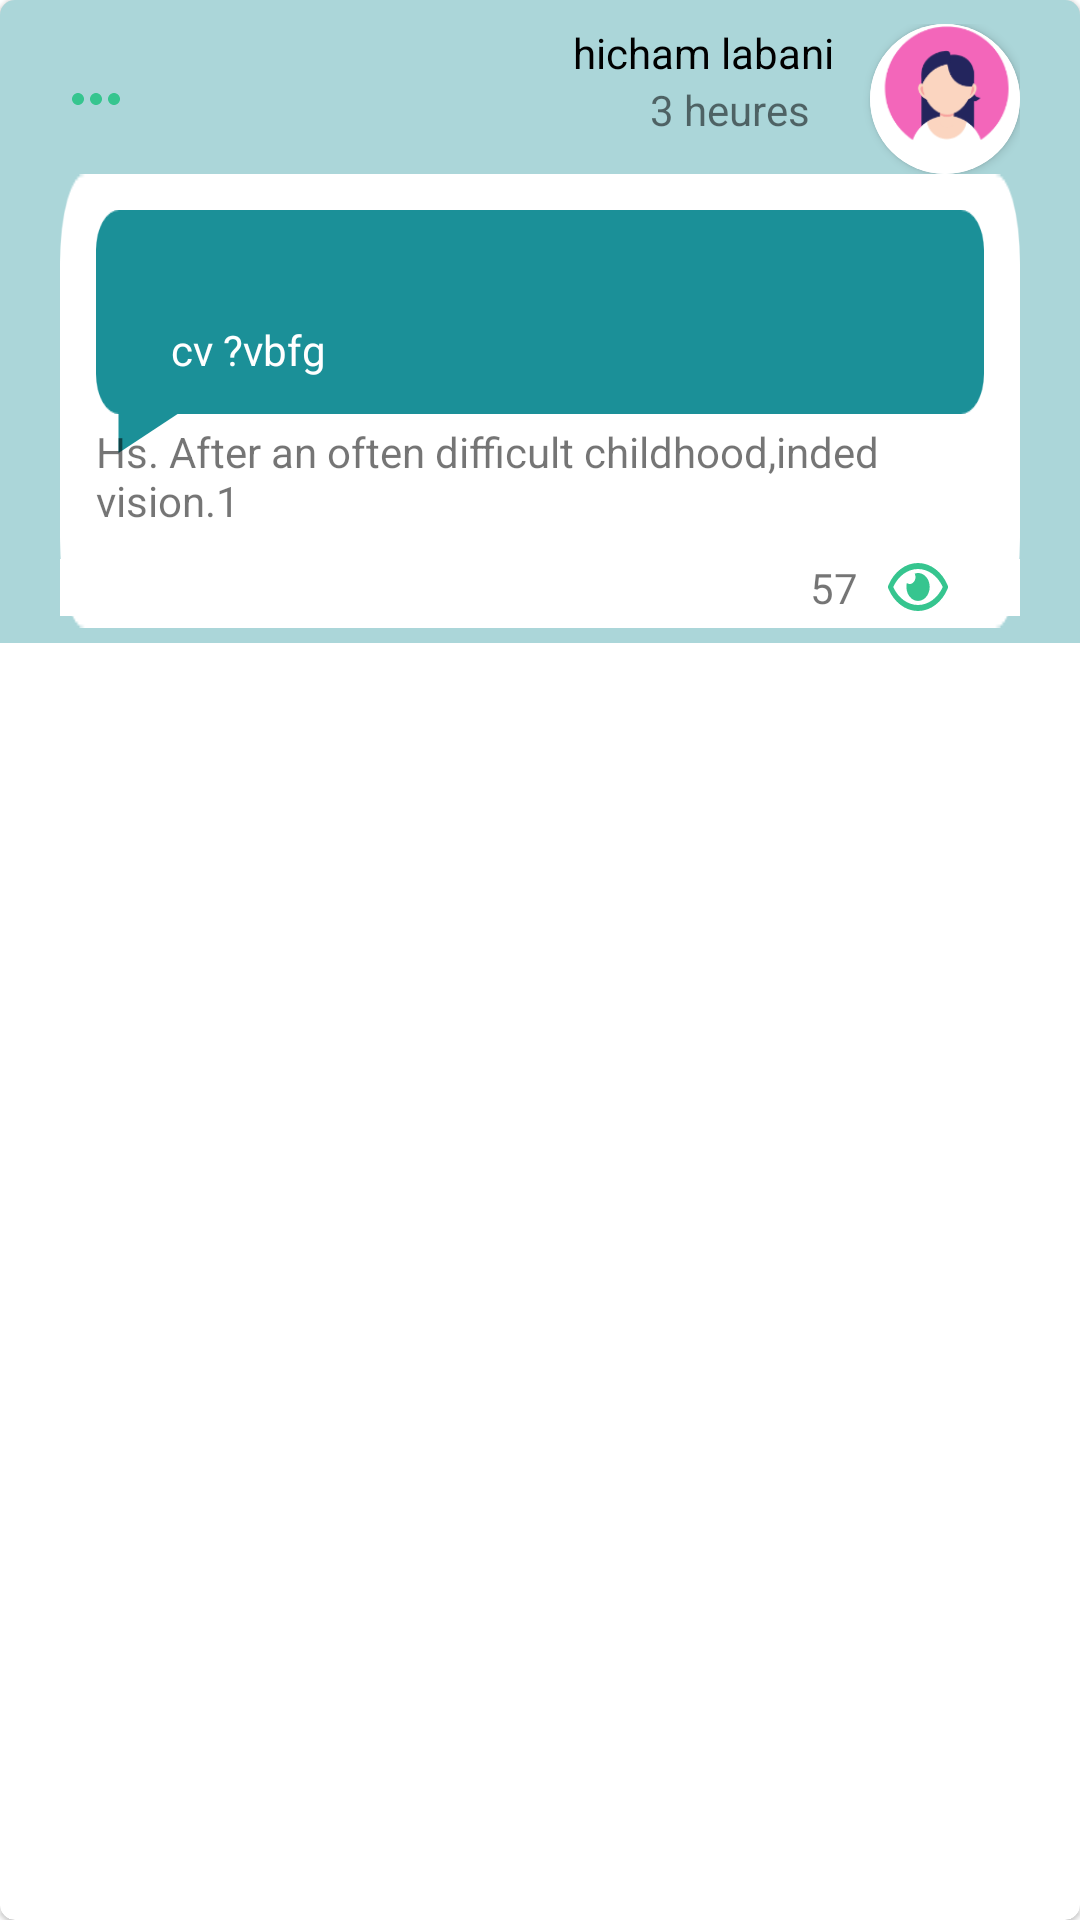

Where to tap for icons on this 1080*1920 app screen, as (x,y):
eye: (918,587)
userimg: (945,99)
